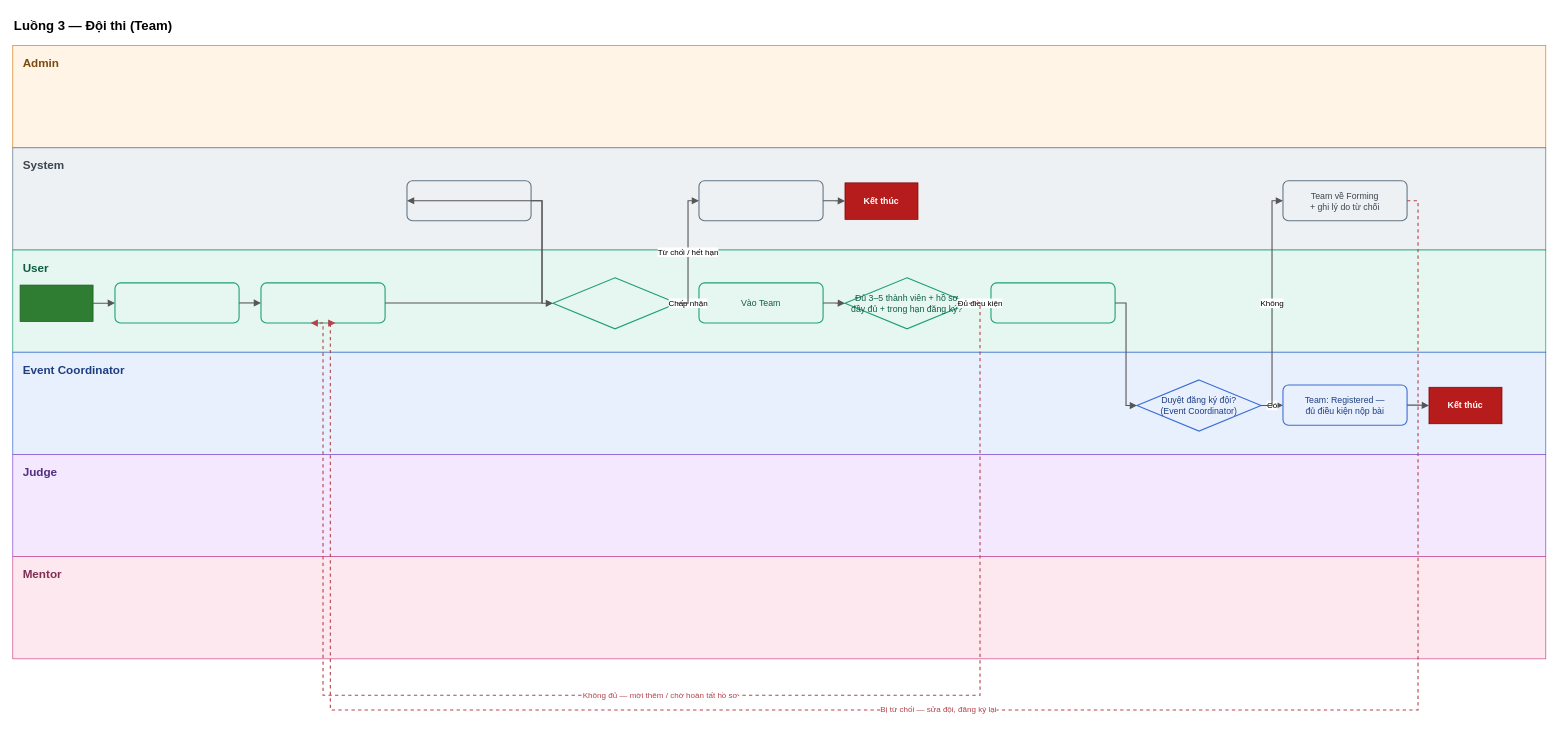
Image size: 1559x729. Some labels were removed from this diagram. Each missing label, with the centre of its shape:
"Bắt đầu" belongs at point 56,303.
"Chốt đăng ký (Confirm) — Team: PendingApproval" belongs at point 1052,302.
"Gửi mail lời mời" belongs at point 468,200.
"Loại khỏi lời mời (từ chối / hết hạn)" belongs at point 760,200.
"Mời thành viên qua email (đích 3–5 người)" belongs at point 322,302.
"Thành viên phản hồi lời mời?" belongs at point 614,303.
"Tạo Team (đặt tên, chọn Event)" belongs at point 176,302.
